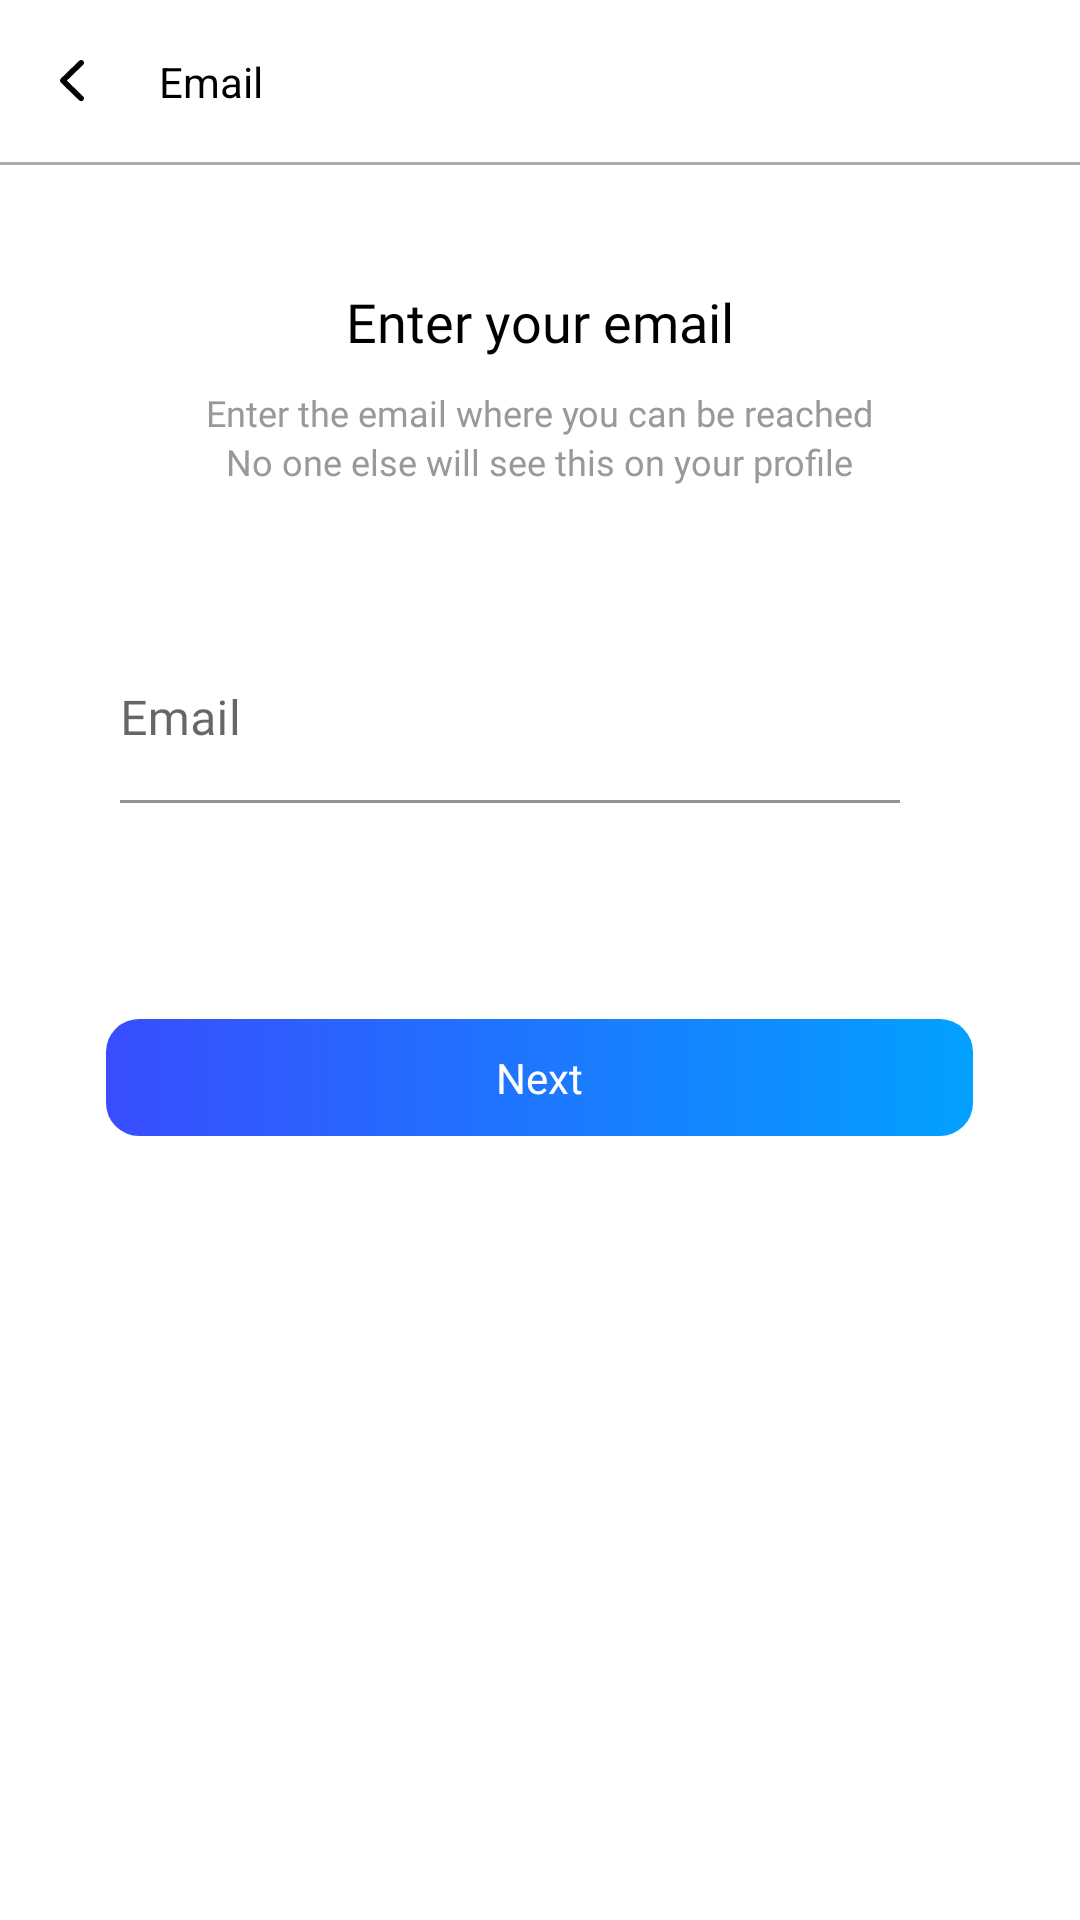

Named icons in this screenshot (1080×1920) and their bounding boxes, BBox(x1, y1, x2, y2):
back create account: BBox(60, 60, 84, 101)
